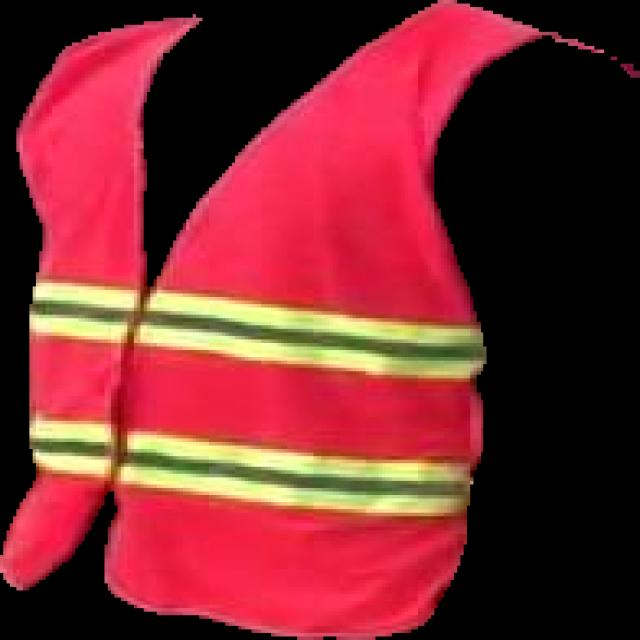Colete: (0, 0, 604, 639)
